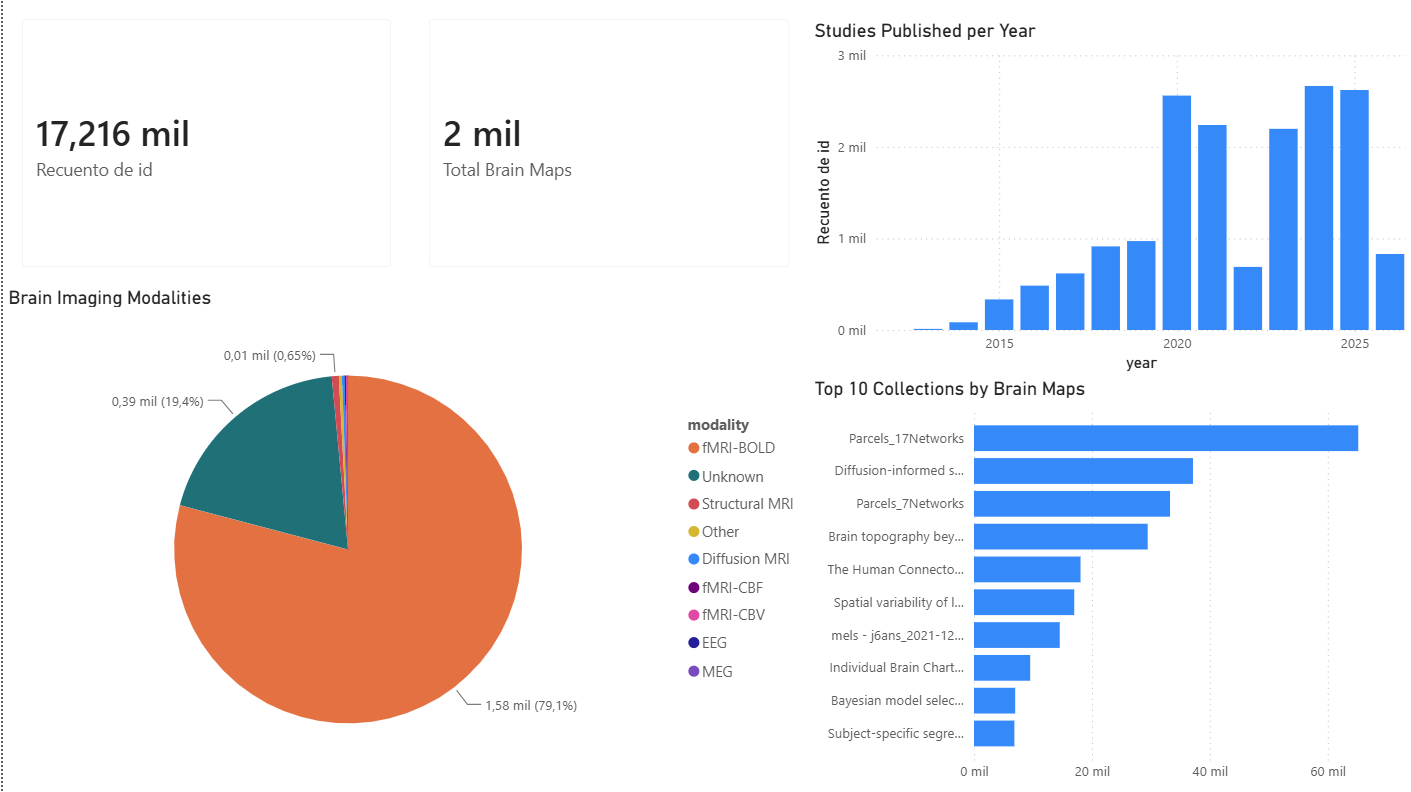

The dashboard page shown, as its layout file describes it:
{"tool":"powerbi","page":{"name":"Página 1","canvas":[1280,720],"ordinal":0},"visuals":[{"type":"columnChart","title":"Studies Published per Year","fields":{"Category":["collections_clean.year"],"Y":["CountNonNull(collections_clean.id)"]},"box":[732.9,17.1,547.1,325.7],"z":0},{"type":"pieChart","title":"Brain Imaging Modalities","fields":{"Category":["images_clean.modality"],"Y":["CountNonNull(images_clean.id)"]},"box":[0,260,733.3,460],"z":1},{"type":"cardVisual","fields":{"Data":["CountNonNull(images_clean.id)"]},"box":[370.3,0,362.7,260.2],"z":3},{"type":"barChart","title":"Top 10 Collections by Brain Maps","fields":{"Category":["collections_clean.name"],"Y":["Sum(collections_clean.number_of_images)"]},"box":[732.9,342.9,547.1,377.1],"z":4},{"type":"cardVisual","fields":{"Data":["CountNonNull(collections_clean.id)"]},"box":[0,0,370,260],"z":5}]}

Visuals, with their boxes in screenshot pixels (x1, y1, x2, y2), scaled from the page's 1280x720 canvas onto the 1411x792 screenshot:
"Studies Published per Year" columnChart: {"x1": 808, "y1": 19, "x2": 1410, "y2": 377}
"Brain Imaging Modalities" pieChart: {"x1": 0, "y1": 286, "x2": 808, "y2": 791}
cardVisual - CountNonNull(images_clean.id): {"x1": 408, "y1": 0, "x2": 808, "y2": 286}
"Top 10 Collections by Brain Maps" barChart: {"x1": 808, "y1": 377, "x2": 1410, "y2": 791}
cardVisual - CountNonNull(collections_clean.id): {"x1": 0, "y1": 0, "x2": 408, "y2": 286}
